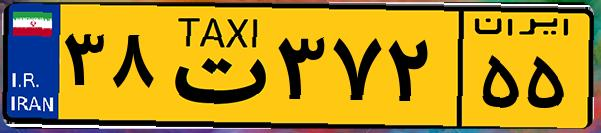2: (385, 28, 445, 110)
3: (270, 28, 330, 110), (57, 26, 110, 100)
5: (475, 38, 525, 113), (525, 38, 570, 115)
7: (330, 28, 385, 110)
8: (110, 28, 158, 98)
ت: (158, 12, 270, 120)
